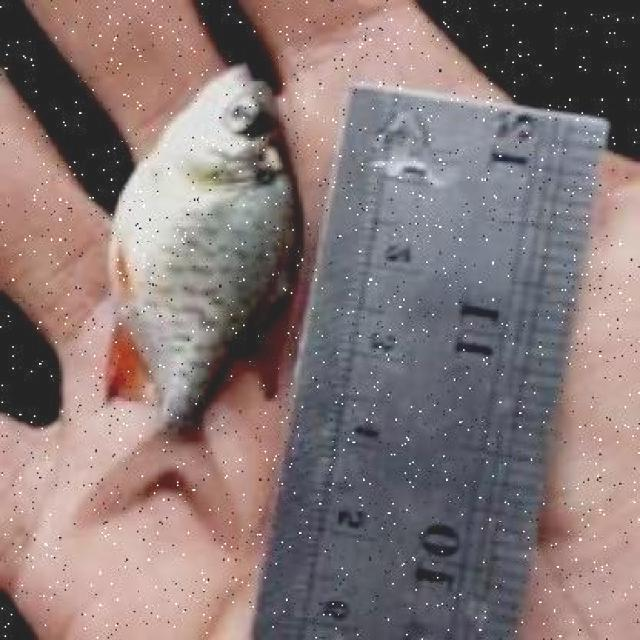ikan-pacu: (74, 60, 300, 543)
